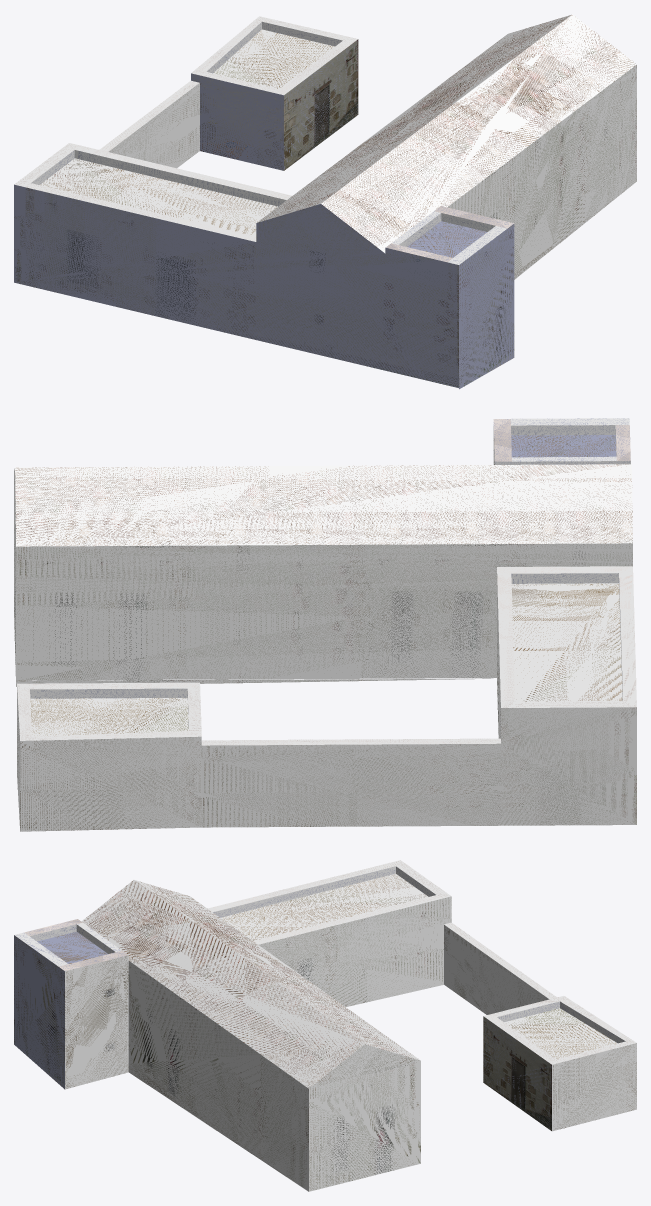
Rendered from Tienda ULPGC.fbx.
3 renders of one model, top to bottom at view 1: azimuth 30°, elevation 25°; view 2: azimuth 150°, elevation 25°; view 3: azimuth 270°, elevation 25°, orthographic. The views are drawn at different scales.
Visible parts, largest first — view 1: Group1; view 2: Group1; view 3: Group1.
Boxes of the visible parts, <box> form: Group1: <box>14,14,636,389</box>; Group1: <box>14,418,636,831</box>; Group1: <box>14,860,636,1191</box>.
Bounding box in the file's own units: 25.47 × 6.94 × 27.33.
